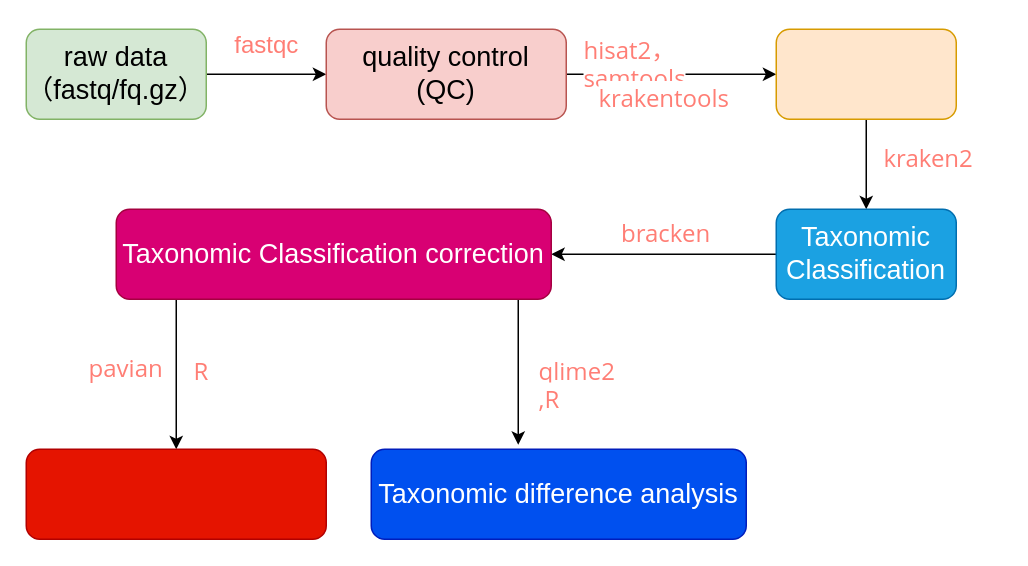
The diagram is 1028 pixels wide and 566 high, and some of its shapes have lost their labels. Here are the shapes that lost their labels. From the top down, the centre of each, then its label:
At [865,73]: "remove human reads".
At [175,493]: "Abundance estimation".
